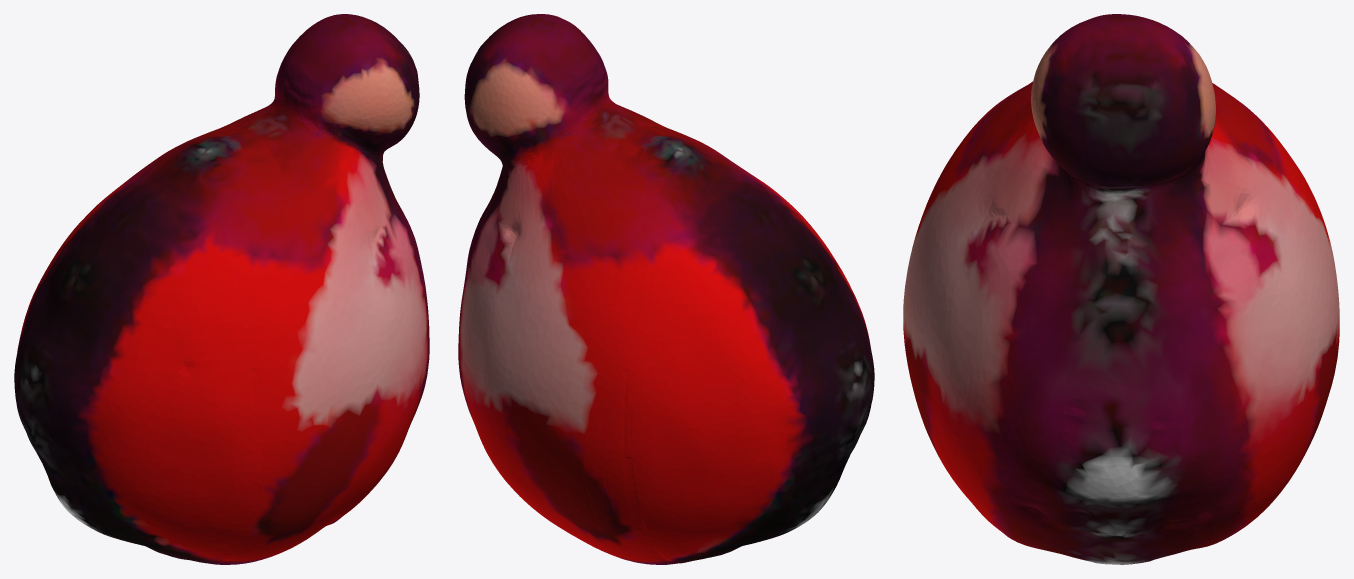
The model's file is potionstr.glb.
3 views of the same model, side by side, from view 1: azimuth 30°, elevation 25°; view 2: azimuth 150°, elevation 25°; view 3: azimuth 270°, elevation 25° (orthographic). The views are drawn at different scales.
Parts seen in each view (by area): view 1: geometry_0; view 2: geometry_0; view 3: geometry_0.
Boxes of the visible parts, bbox=[...] form: geometry_0: bbox=[14, 14, 429, 564]; geometry_0: bbox=[458, 14, 874, 564]; geometry_0: bbox=[903, 14, 1339, 564].
Size of the model in its own units: 0.375 by 0.4669 by 0.305.
